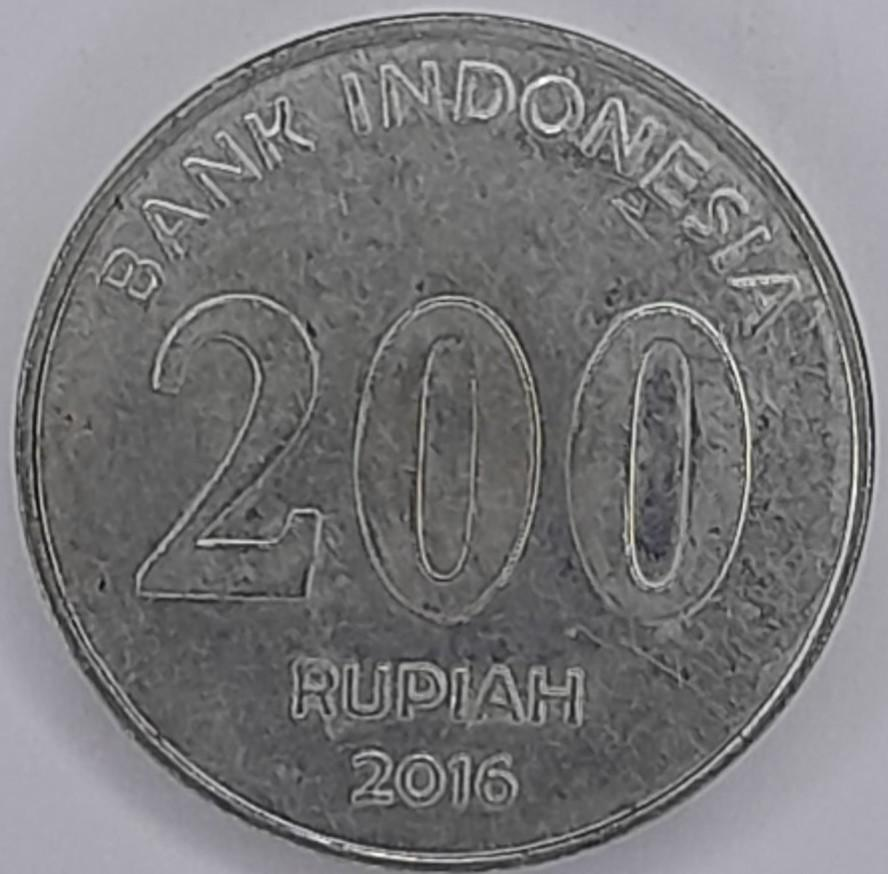coin_200_e2016: (0, 15, 888, 874)
